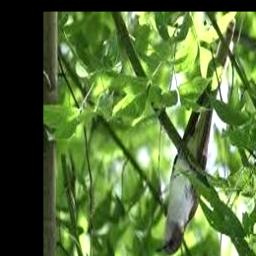Cuckoo: (157, 16, 236, 256)
